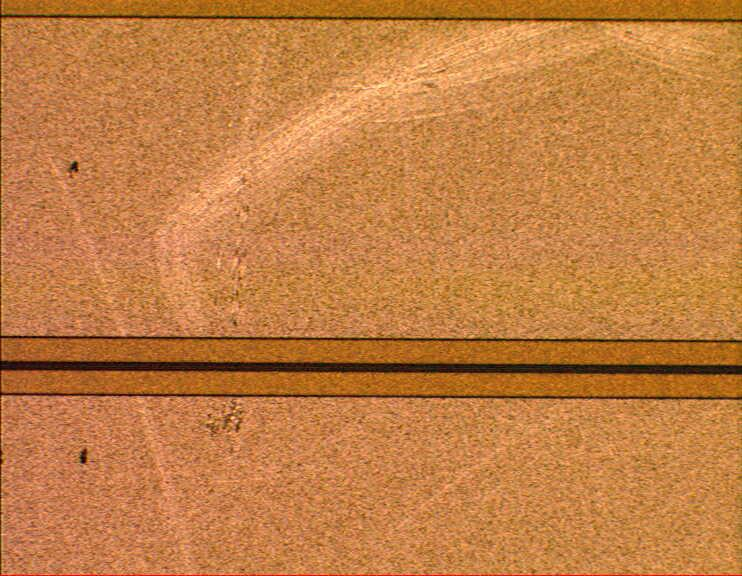SCRATCH: (20, 4, 742, 576)
